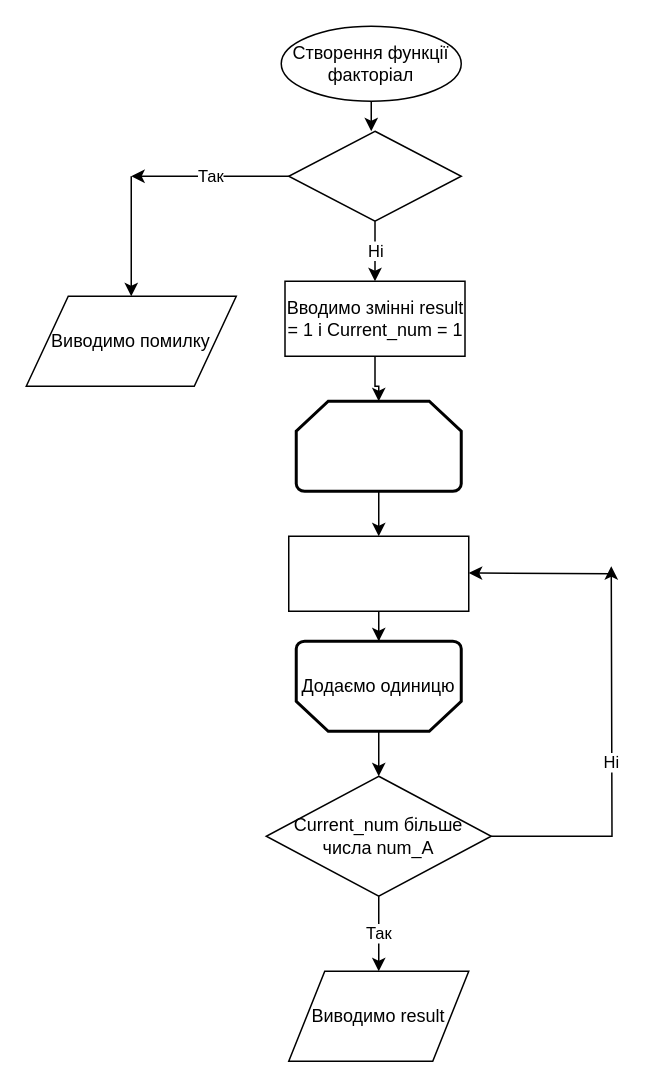
This 651x1088 diagram has some shape labels left out. Each missing label, with the centre of its shape:
Result множимо на Current_num: (378,573)
Цикл Current_num менше рівне num_A: (378,445)
Число А менше 1?: (374,175)
